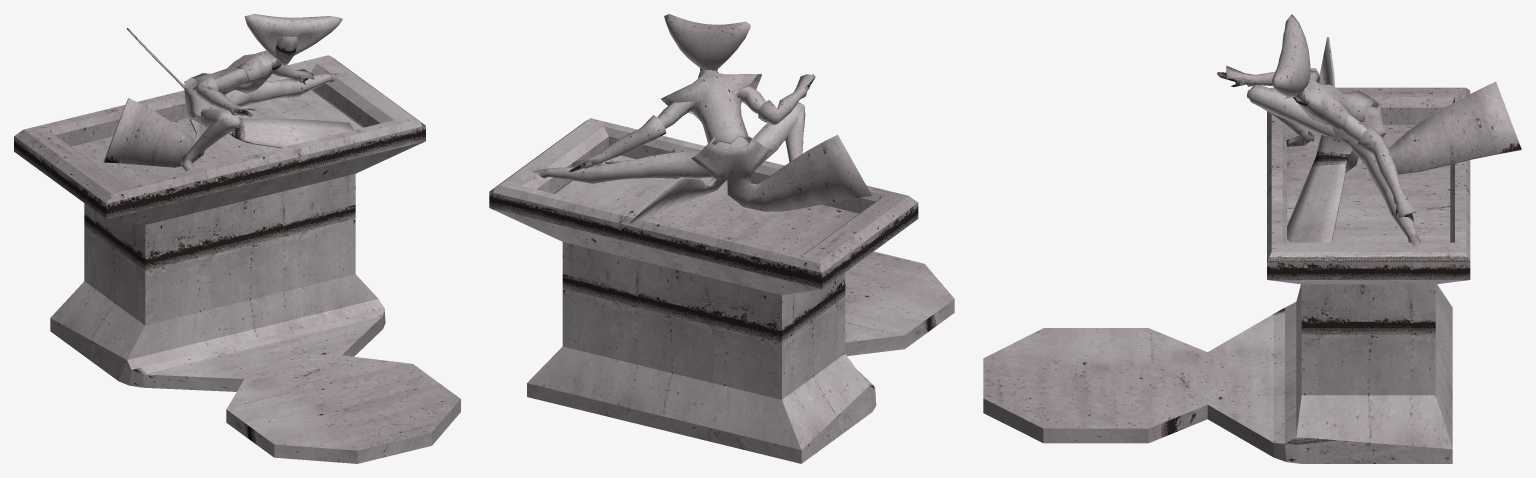
The model's file is Darcy_estatua_Dash.fbx.
3 views of the same model, side by side, from view 1: azimuth 30°, elevation 25°; view 2: azimuth 150°, elevation 25°; view 3: azimuth 270°, elevation 25° (orthographic). The views are drawn at different scales.
Parts seen in each view (by area): view 1: Cube, Darcy_body; view 2: Cube, Darcy_body; view 3: Cube, Darcy_body.
Part boxes in pixels (box(x1,y1,x2,y2)): Cube: box(14, 55, 460, 463); Darcy_body: box(103, 14, 360, 170); Cube: box(489, 118, 954, 463); Darcy_body: box(532, 14, 871, 223); Cube: box(983, 87, 1470, 463); Darcy_body: box(1217, 14, 1521, 246).
Bounding box in the file's own units: 200 × 203 × 265.
